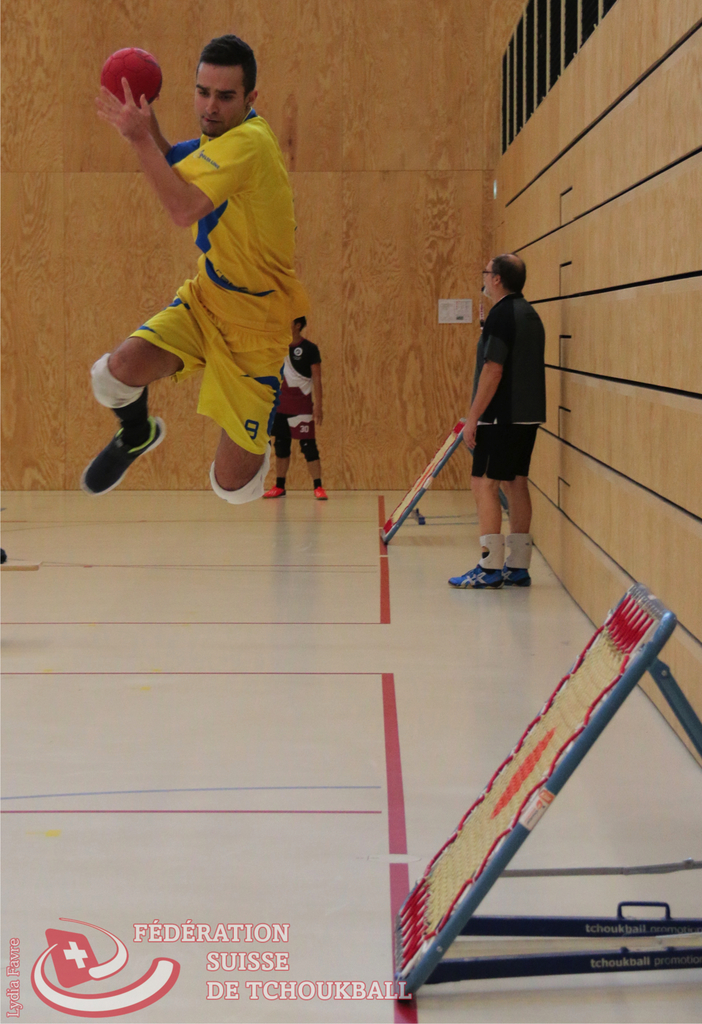Person: (79, 33, 310, 504), (448, 253, 546, 589), (258, 315, 331, 497)
